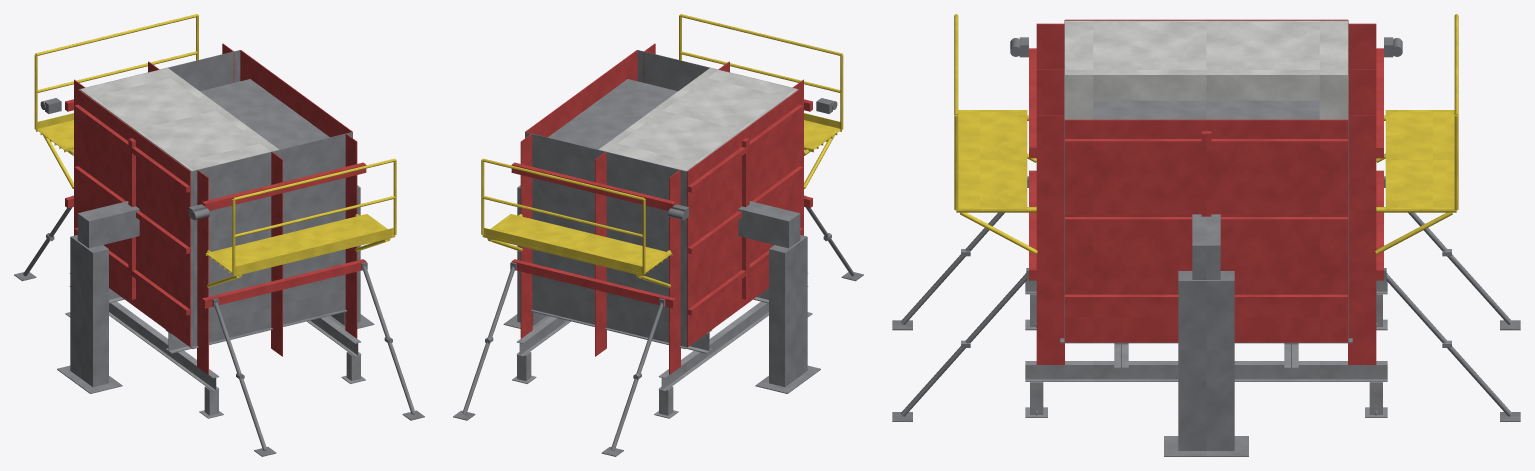
The model's file is box-culvert-mould.glb.
3 views of the same model, side by side, from view 1: azimuth 30°, elevation 25°; view 2: azimuth 150°, elevation 25°; view 3: azimuth 270°, elevation 25° (orthographic). The views are drawn at different scales.
Visible parts, largest first — view 1: EndBulkheads, SideShutters, InnerCore, Ribs&Walers, Walkways, ConcreteUnit(context), BaseFrame, Props&Clamps, Vibrators; view 2: EndBulkheads, SideShutters, InnerCore, Ribs&Walers, Walkways, ConcreteUnit(context), BaseFrame, Props&Clamps, Vibrators; view 3: EndBulkheads, ConcreteUnit(context), Ribs&Walers, InnerCore, Walkways, BaseFrame, Props&Clamps, Vibrators, SideShutters.
Boxes of the visible parts, <box> form: EndBulkheads: <box>74,50,352,346</box>; SideShutters: <box>79,50,352,347</box>; InnerCore: <box>57,79,374,393</box>; Ribs&Walers: <box>65,43,366,374</box>; Walkways: <box>34,14,396,287</box>; ConcreteUnit(context): <box>80,68,279,171</box>; BaseFrame: <box>65,273,365,418</box>; Props&Clamps: <box>14,195,424,456</box>; Vibrators: <box>40,98,209,220</box>; EndBulkheads: <box>525,50,803,346</box>; SideShutters: <box>525,50,798,347</box>; InnerCore: <box>503,79,820,393</box>; Ribs&Walers: <box>511,43,812,374</box>; Walkways: <box>481,14,843,287</box>; ConcreteUnit(context): <box>598,68,797,171</box>; BaseFrame: <box>512,273,812,418</box>; Props&Clamps: <box>453,195,863,456</box>; Vibrators: <box>668,98,837,220</box>; EndBulkheads: <box>1065,19,1347,342</box>; ConcreteUnit(context): <box>1065,20,1347,119</box>; Ribs&Walers: <box>1029,23,1383,364</box>; InnerCore: <box>1093,100,1319,456</box>; Walkways: <box>954,14,1458,254</box>; BaseFrame: <box>1025,273,1387,417</box>; Props&Clamps: <box>892,176,1520,421</box>; Vibrators: <box>1010,37,1402,57</box>; SideShutters: <box>1064,20,1348,341</box>.
Bounding box in the file's own units: 4.4 × 3.57 × 6.66.
Materials: 6 (6 with a texture image).
